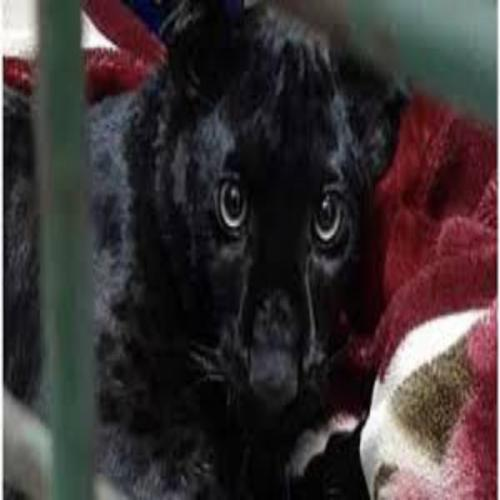panther-endangered: (18, 15, 402, 486)
